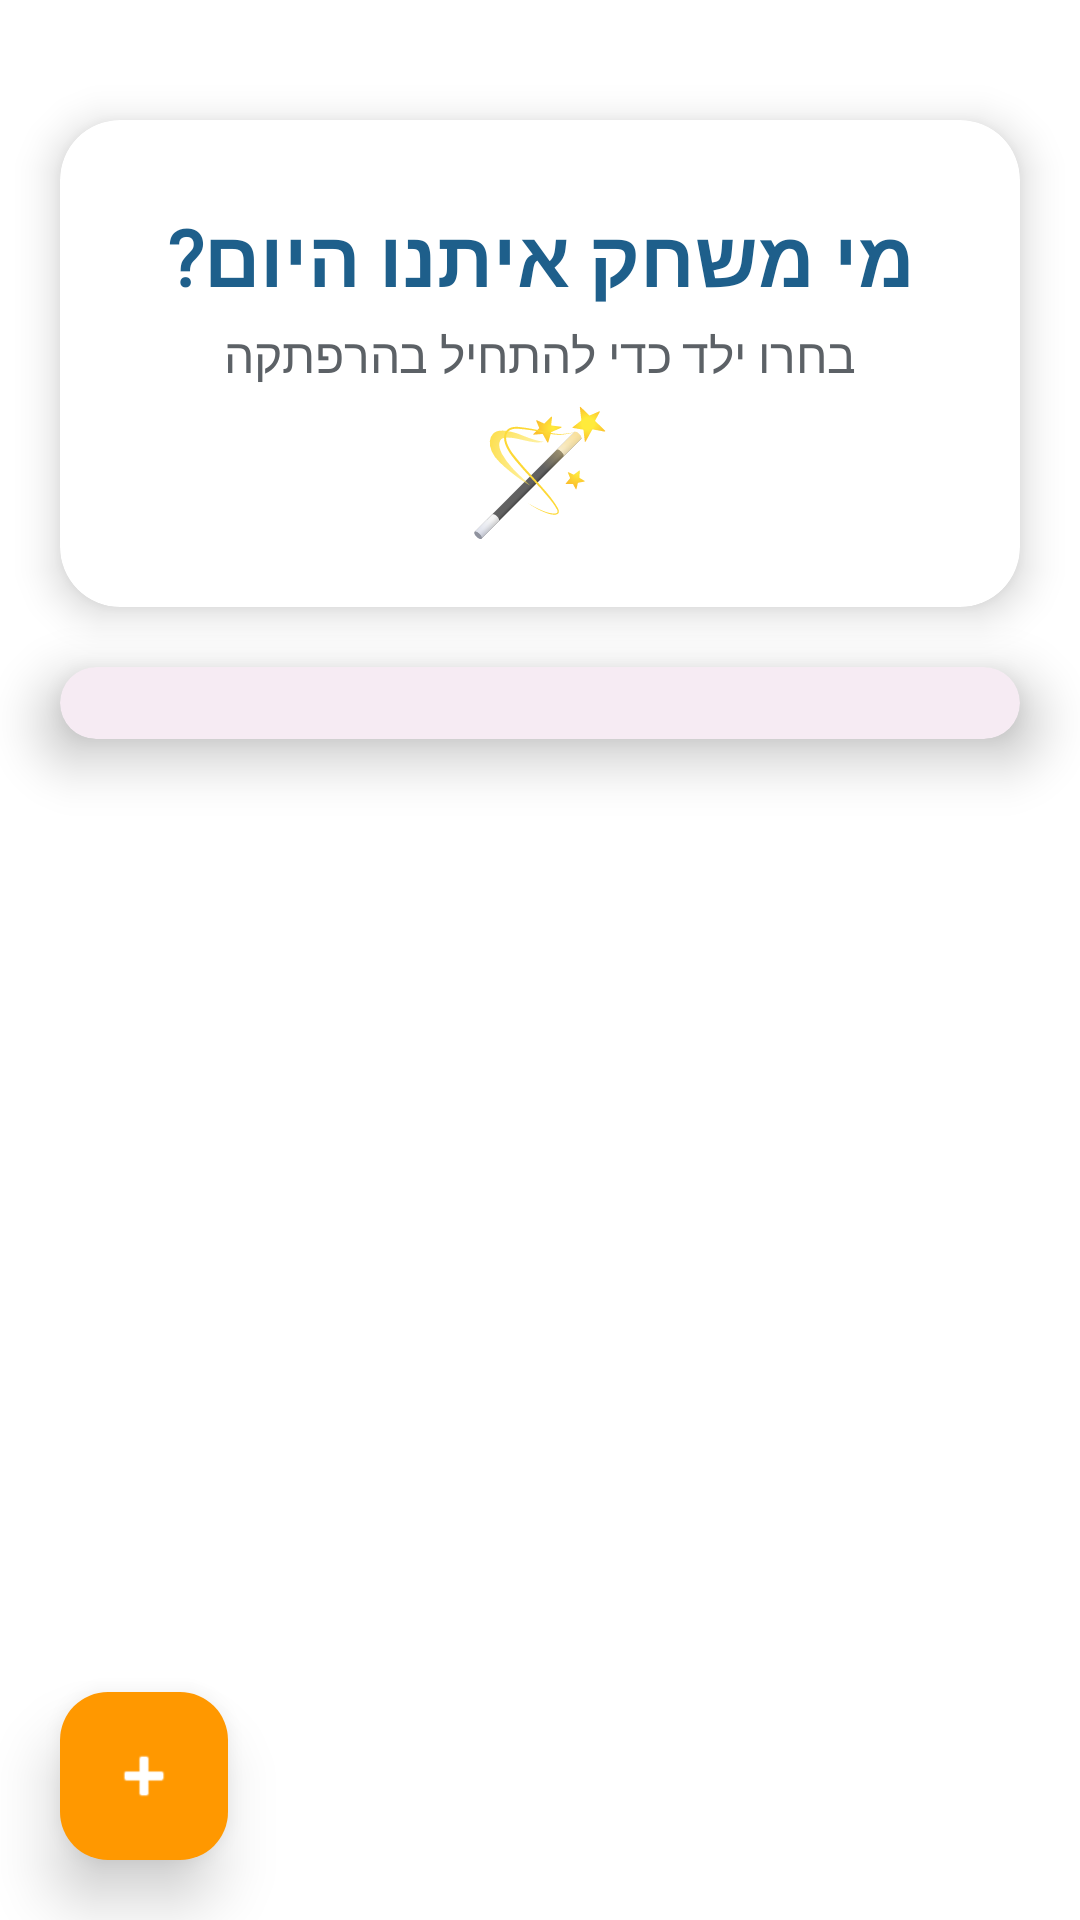

Where icons sit on this 1080x1920 app screen, as (x1=x1, y1=y1, x2=x2, y2=y2):
הוספת ילד: (x1=60, y1=1692, x2=228, y2=1860)
